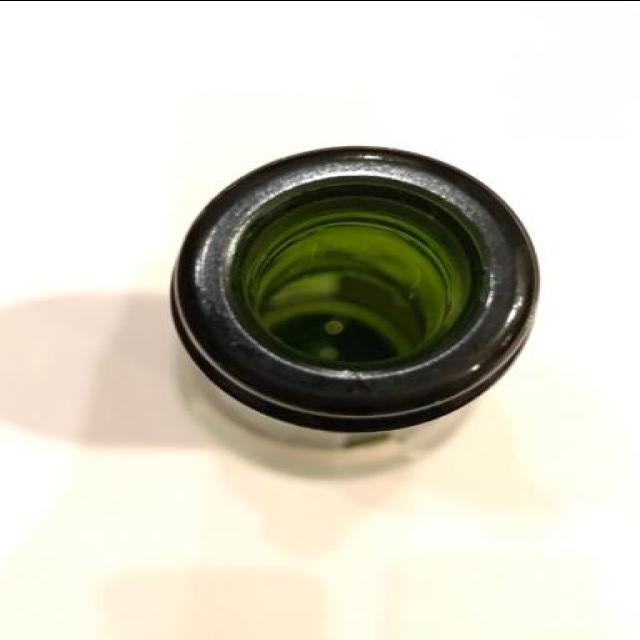glass: (142, 125, 556, 458)
